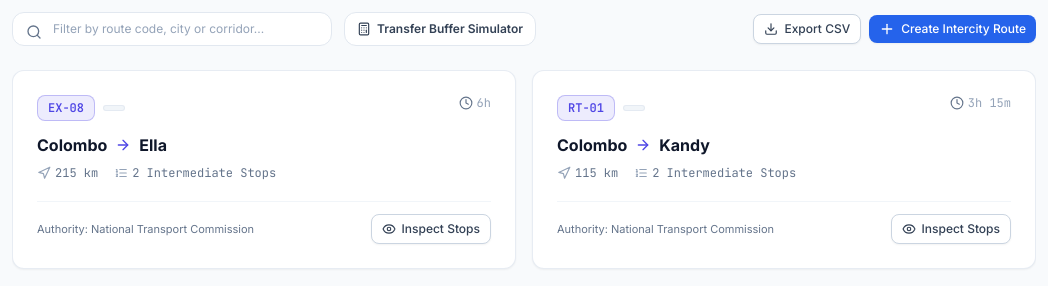
Test case: RouteManagerPage › filters routes when user enters search terms
Expected: the text "EX-08" is shown, [37,95,95,121]
Type "Ella" into the field with placeholder "Filter by route code, city or corridor..." at (172, 29), box [12,12,332,46]
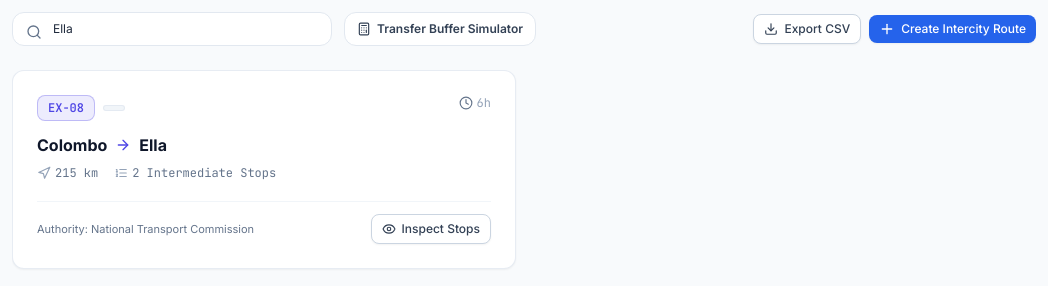
Expected: the text "EX-08" is shown, [37,95,95,121]
Expected: the text "RT-01" is gone
